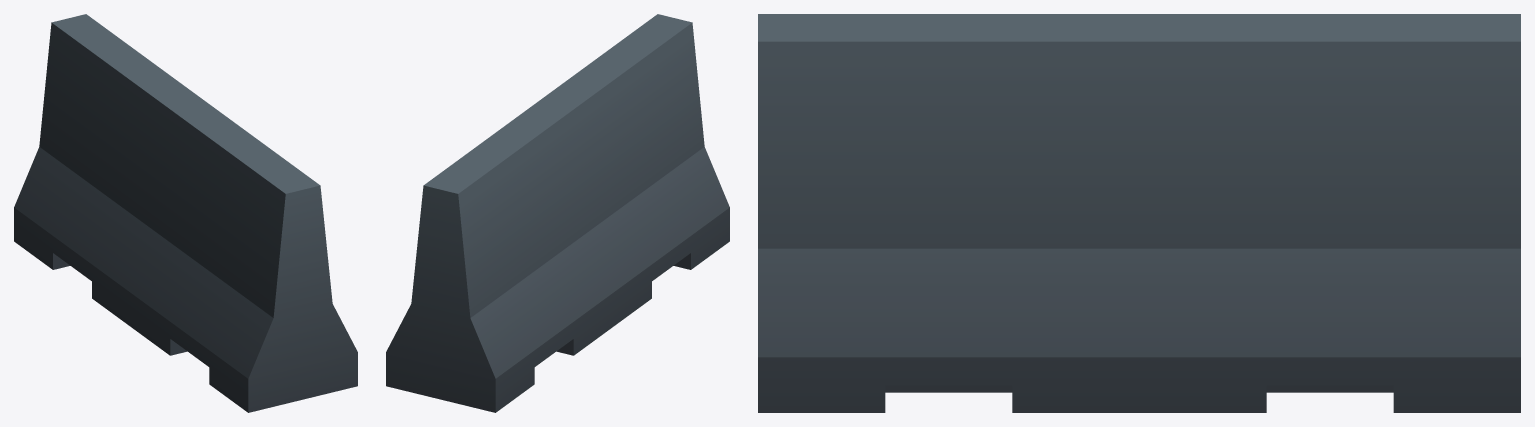
File: Road Barrier.fbx
3 renders of one model, left to right at view 1: azimuth 30°, elevation 25°; view 2: azimuth 150°, elevation 25°; view 3: azimuth 270°, elevation 25°, orthographic. The views are drawn at different scales.
Parts seen in each view (by area): view 1: Cube; view 2: Cube; view 3: Cube.
Part boxes in pixels (x1=…): Cube: x1=14, y1=14, x2=357, y2=412; Cube: x1=386, y1=14, x2=729, y2=412; Cube: x1=758, y1=14, x2=1520, y2=412.
Bounding box in the file's own units: 429 × 784 × 1587.
